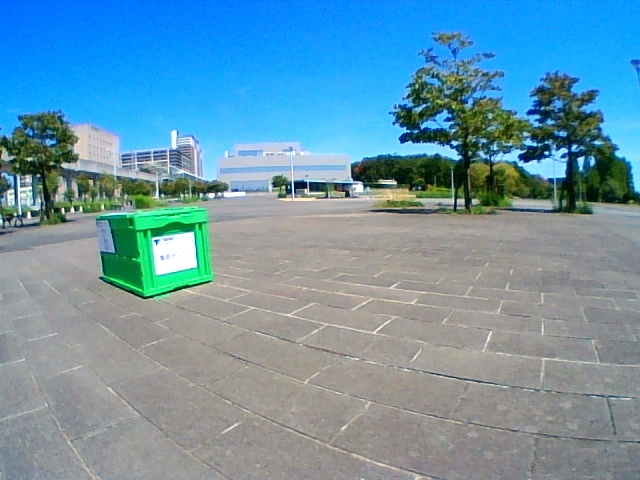green_box: (95, 206, 213, 298)
tag_b: (98, 221, 110, 252)
